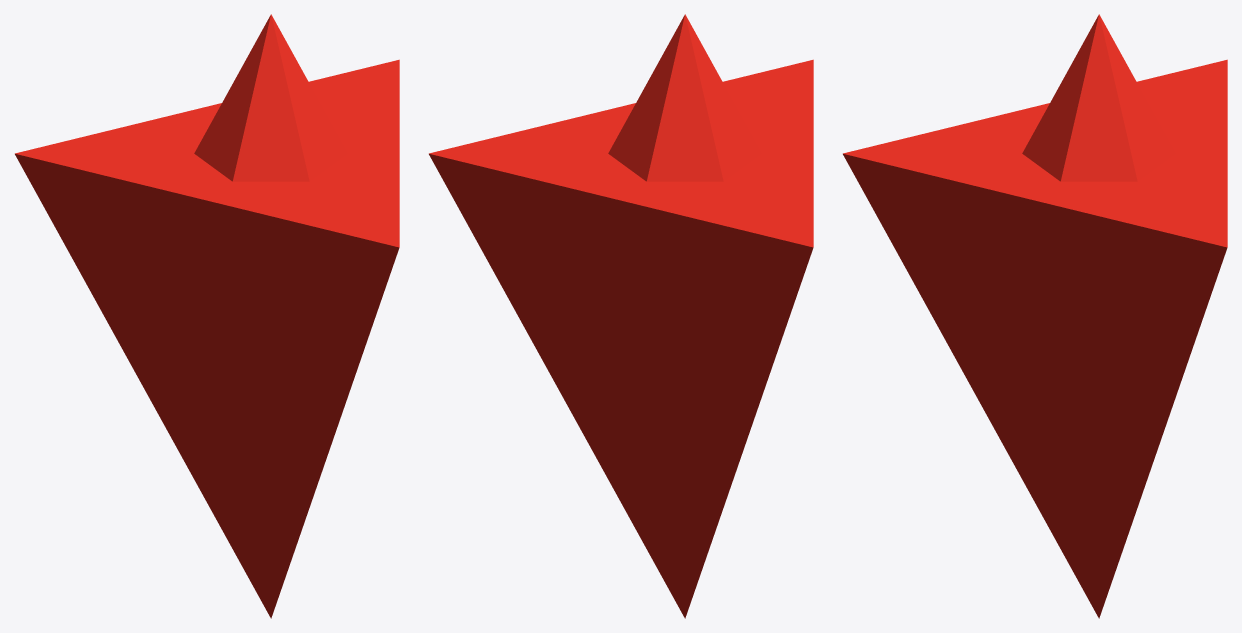
The model's file is Enemy.fbx.
The picture shows the model from 3 angles, left to right: view 1: azimuth 30°, elevation 25°; view 2: azimuth 150°, elevation 25°; view 3: azimuth 270°, elevation 25°; orthographic projection.
Parts seen in each view (by area): view 1: Enemy; view 2: Enemy; view 3: Enemy.
Boxes of the visible parts, x1,y1,x2,y2 form: Enemy: (15,14,399,618); Enemy: (429,14,813,618); Enemy: (843,14,1227,618).
Bounding box in the file's own units: 173 × 260 × 150.
